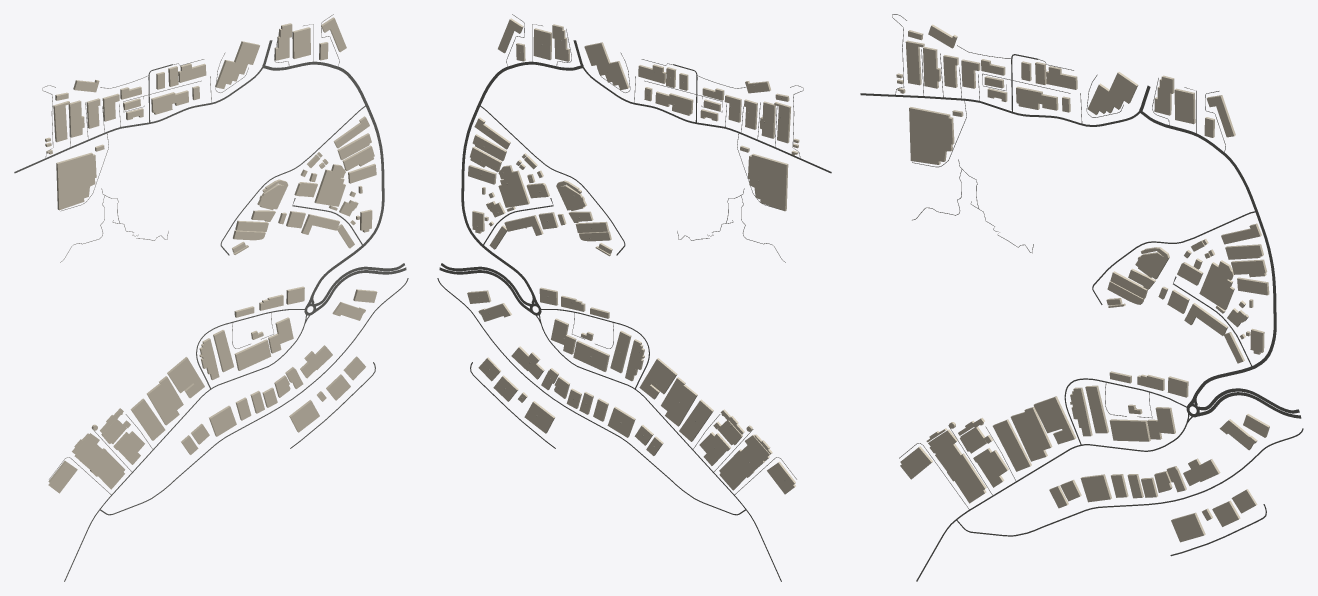
File: historic-palestine-09_27_3511_3210.glb
3 views of the same model, side by side, from view 1: azimuth 30°, elevation 25°; view 2: azimuth 150°, elevation 25°; view 3: azimuth 330°, elevation 25° (orthographic). The views are drawn at different scales.
Visible parts, largest first — view 1: Building_.005, Building_.006, Road שהם.003, Building_.061, Building_.044, Building_.039, Building_.067, Building_.023, Building_.070, Road .001, Road רחבעם זאבי, Building_.007 (+11 smaller); view 2: Building_.005, Building_.006, Road שהם.003, Building_.061, Building_.044, Building_.039, Building_.067, Building_.023, Building_.070, Road .001, Road רחבעם זאבי, Building_.007 (+12 smaller); view 3: Building_.005, Building_.006, Road שהם.003, Building_.061, Building_.044, Building_.039, Building_.067, Building_.023, Building_.070, Building_.002, Road .001, Building_.007 (+15 smaller).
Part boxes in pixels (bbox=[...]): Building_.005: bbox=[56, 152, 96, 210]; Building_.006: bbox=[74, 433, 125, 489]; Road שהם.003: bbox=[263, 61, 384, 295]; Building_.061: bbox=[146, 376, 183, 425]; Building_.044: bbox=[215, 41, 259, 88]; Building_.039: bbox=[167, 357, 204, 398]; Building_.067: bbox=[314, 169, 345, 206]; Building_.023: bbox=[130, 398, 165, 440]; Building_.070: bbox=[234, 339, 271, 370]; Road .001: bbox=[14, 66, 263, 173]; Road רחבעם זאבי: bbox=[100, 278, 408, 515]; Building_.007: bbox=[257, 179, 288, 209]; Building_.005: bbox=[748, 153, 788, 211]; Building_.006: bbox=[719, 434, 770, 490]; Road שהם.003: bbox=[461, 61, 582, 295]; Building_.061: bbox=[661, 377, 697, 426]; Building_.044: bbox=[584, 42, 629, 90]; Building_.039: bbox=[639, 358, 677, 399]; Building_.067: bbox=[498, 170, 529, 207]; Building_.023: bbox=[679, 399, 713, 441]; Building_.070: bbox=[573, 340, 609, 371]; Road .001: bbox=[582, 66, 831, 173]; Road רחבעם זאבי: bbox=[437, 278, 745, 515]; Building_.007: bbox=[556, 180, 586, 210]; Building_.005: bbox=[909, 107, 954, 164]; Building_.006: bbox=[928, 429, 986, 503]; Road שהם.003: bbox=[1140, 110, 1276, 395]; Building_.061: bbox=[1010, 407, 1052, 461]; Building_.044: bbox=[1088, 72, 1138, 114]; Building_.039: bbox=[1033, 396, 1076, 444]; Building_.067: bbox=[1199, 262, 1234, 309]; Building_.023: bbox=[992, 419, 1031, 471]; Building_.070: bbox=[1109, 419, 1150, 441]; Building_.002: bbox=[973, 448, 1008, 487]; Road .001: bbox=[860, 93, 1140, 126]; Building_.007: bbox=[1135, 247, 1169, 279].
Bounding box in the file's own units: 1168 × 1422 × 8.7.
